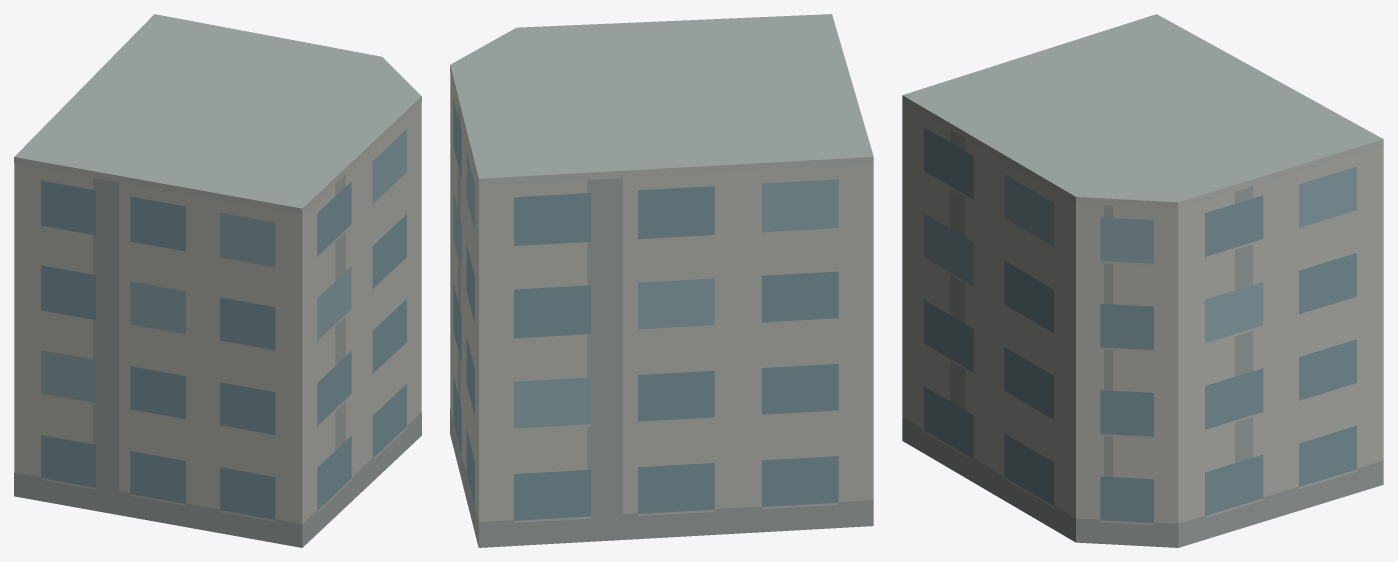
Rendered from residential-8fc365ad-c3b2-433d-a1d9-a4cc92e307e7.glb.
3 renders of one model, left to right at view 1: azimuth 30°, elevation 25°; view 2: azimuth 150°, elevation 25°; view 3: azimuth 270°, elevation 25°, orthographic. The views are drawn at different scales.
Parts seen in each view (by area): view 1: residential-8fc365ad-c3b2-433d-a1d9-a4cc92e307e7.tmp; view 2: residential-8fc365ad-c3b2-433d-a1d9-a4cc92e307e7.tmp; view 3: residential-8fc365ad-c3b2-433d-a1d9-a4cc92e307e7.tmp.
Part boxes in pixels (box(x1,y1,x2,y2)): residential-8fc365ad-c3b2-433d-a1d9-a4cc92e307e7.tmp: box(14, 14, 421, 547); residential-8fc365ad-c3b2-433d-a1d9-a4cc92e307e7.tmp: box(450, 14, 873, 547); residential-8fc365ad-c3b2-433d-a1d9-a4cc92e307e7.tmp: box(902, 14, 1383, 547).
Size of the model in its own units: 14.26 by 12.2 by 15.41.
